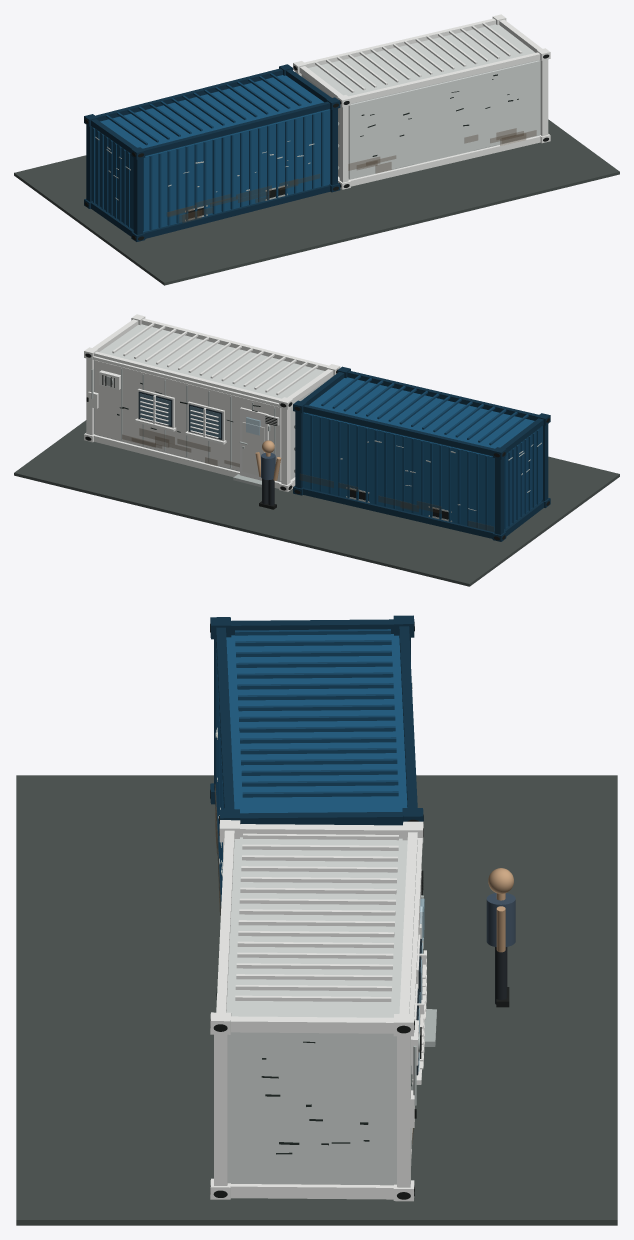
Rendered from modul-container.glb.
The picture shows the model from 3 angles, top to bottom: view 1: azimuth 30°, elevation 25°; view 2: azimuth 150°, elevation 25°; view 3: azimuth 270°, elevation 25°; orthographic projection. The views are drawn at different scales.
Parts seen in each view (by area): view 1: large-industrial-concrete-asphalt-pad, back-smooth-office-wall, right-long-wall-base-panel, insulated-office-container-shell, main-steel-container-shell, vertical-corner-post (×5), top-right-side-rail (×2), bottom-right-side-rail (×2), top-left-side-rail (×2), rear-wall-corrugated-base, top-back-rail (×2), top-front-rail (×2); view 2: large-industrial-concrete-asphalt-pad, left-long-wall-base-panel, front-smooth-office-wall, insulated-office-container-shell, main-steel-container-shell, vertical-corner-post (×5), top-left-side-rail (×2), bottom-left-side-rail (×2), top-right-side-rail (×2), rear-wall-corrugated-base, door-grey-inner-panel, top-back-rail (×2) (+7 smaller); view 3: large-industrial-concrete-asphalt-pad, insulated-office-container-shell, roof-cross-corrugation (×32), main-steel-container-shell, top-front-rail (×2), vertical-corner-post (×2), top-right-side-rail (×2), top-left-side-rail (×2), top-back-rail (×2), bottom-front-rail, torso-neutral-shirt, front-gutter-channel.
Part boxes in pixels (x1,y1,x2,y2): large-industrial-concrete-asphalt-pad: (14,119,619,285); back-smooth-office-wall: (348,60,539,179); right-long-wall-base-panel: (143,109,329,231); insulated-office-container-shell: (301,24,540,179); main-steel-container-shell: (95,75,330,232); vertical-corner-post (×5): (86,59,548,234); top-right-side-rail (×2): (143,52,540,155); bottom-right-side-rail (×2): (143,136,540,238); top-left-side-rail (×2): (95,18,495,121); rear-wall-corrugated-base: (91,127,133,229); top-back-rail (×2): (91,66,342,153); top-front-rail (×2): (286,19,542,102); large-industrial-concrete-asphalt-pad: (14,420,619,586); left-long-wall-base-panel: (304,412,494,531); front-smooth-office-wall: (94,360,281,481); insulated-office-container-shell: (94,324,331,481); main-steel-container-shell: (303,377,540,532); vertical-corner-post (×5): (86,358,548,534); top-left-side-rail (×2): (94,351,494,455); bottom-left-side-rail (×2): (94,435,493,538); top-right-side-rail (×2): (141,318,538,420); rear-wall-corrugated-base: (504,426,542,528); door-grey-inner-panel: (242,422,264,475); top-back-rail (×2): (287,369,543,453); large-industrial-concrete-asphalt-pad: (16,775,617,1225); insulated-office-container-shell: (226,837,407,1185); roof-cross-corrugation (×32): (235,629,398,1001); main-steel-container-shell: (226,634,407,813); top-front-rail (×2): (231,812,402,1033); vertical-corner-post (×2): (214,1034,410,1187); top-right-side-rail (×2): (216,627,234,1012); top-left-side-rail (×2): (399,626,417,1013); top-back-rail (×2): (231,619,402,838); bottom-front-rail: (231,1184,393,1199); torso-neutral-shirt: (486,893,515,946); front-gutter-channel: (409,838,422,1016).
Bounding box in the file's own units: 14 × 2.73 × 8.
